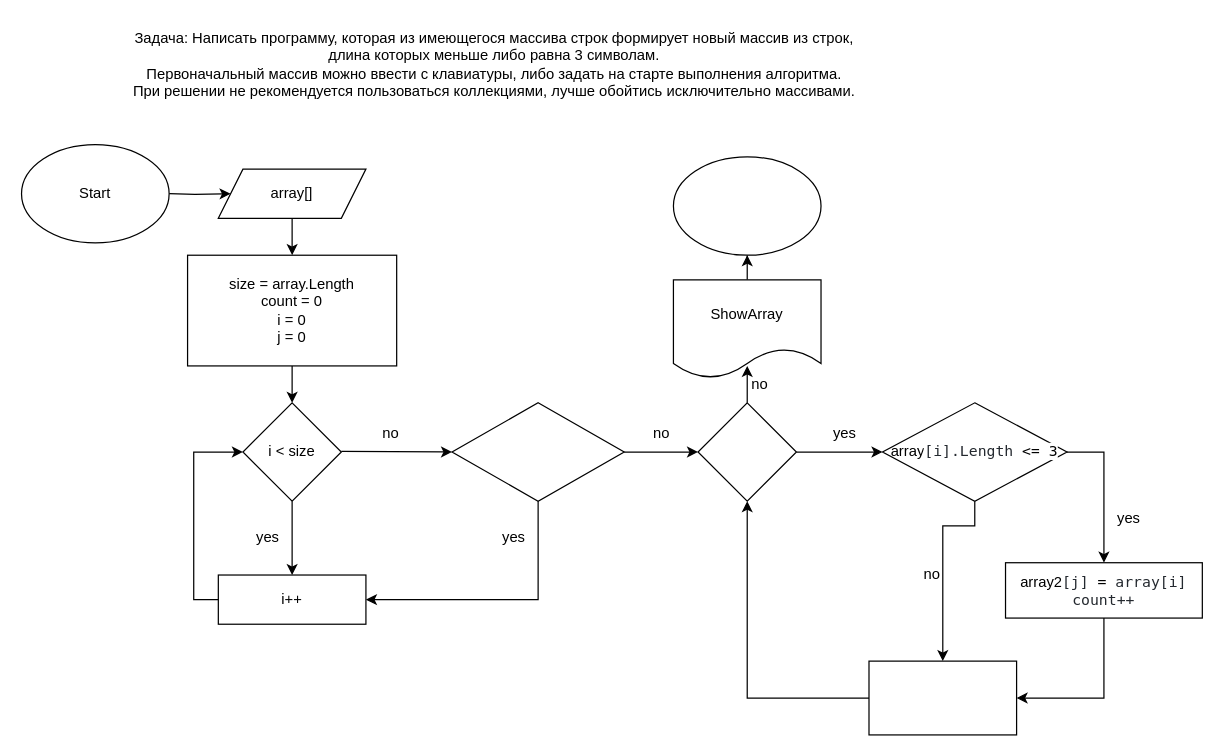
The diagram is 1224 pixels wide and 756 high, and some of its shapes have lost their labels. The box of each missing label's shape, as (x1, y1, x2, y2) in pixels:
End: (672, 156, 821, 255)
i < array . Length: (451, 402, 624, 501)
j < size: (697, 402, 796, 501)
j++: (868, 660, 1017, 735)
